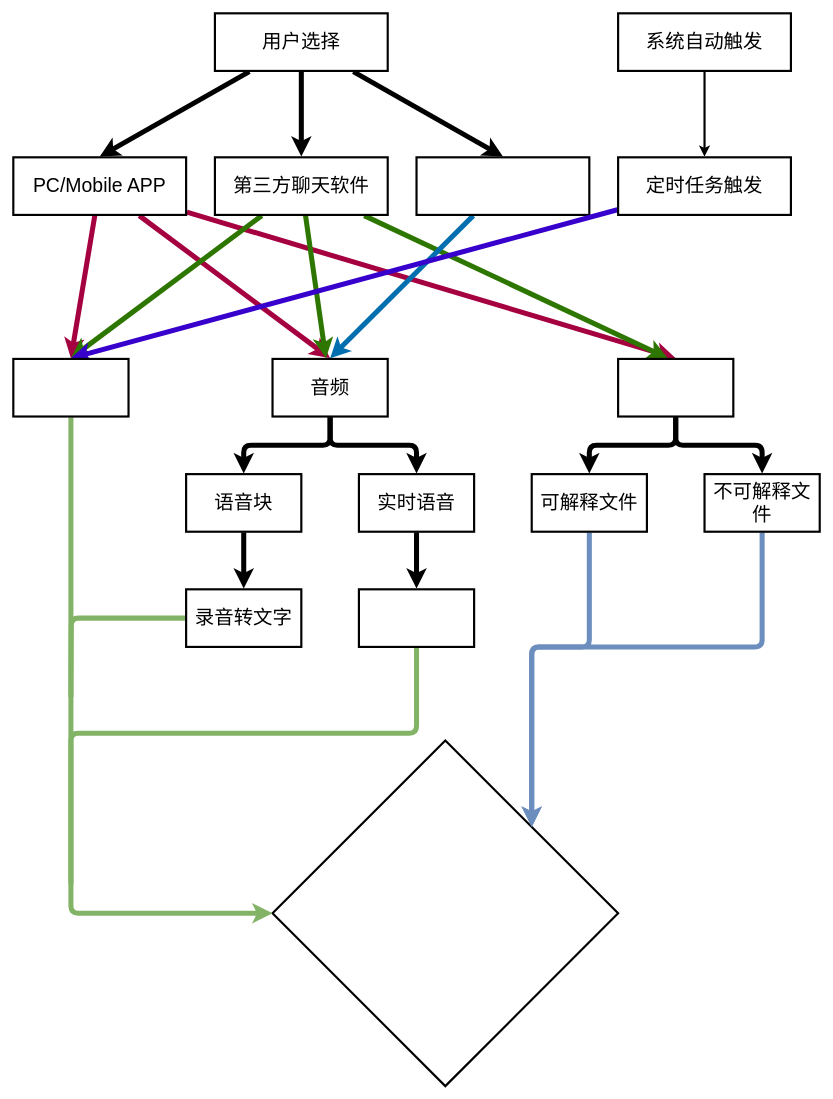
Image size: 833x1099. Some labels were removed from this diagram. Each missing label, with the centre of its shape:
"VOIP电话" goes at (502,186).
"文件" goes at (675,387).
"文字" goes at (70,387).
"统一通信网关UCG" goes at (445,913).
"音频流实时转文字" goes at (416,618).
